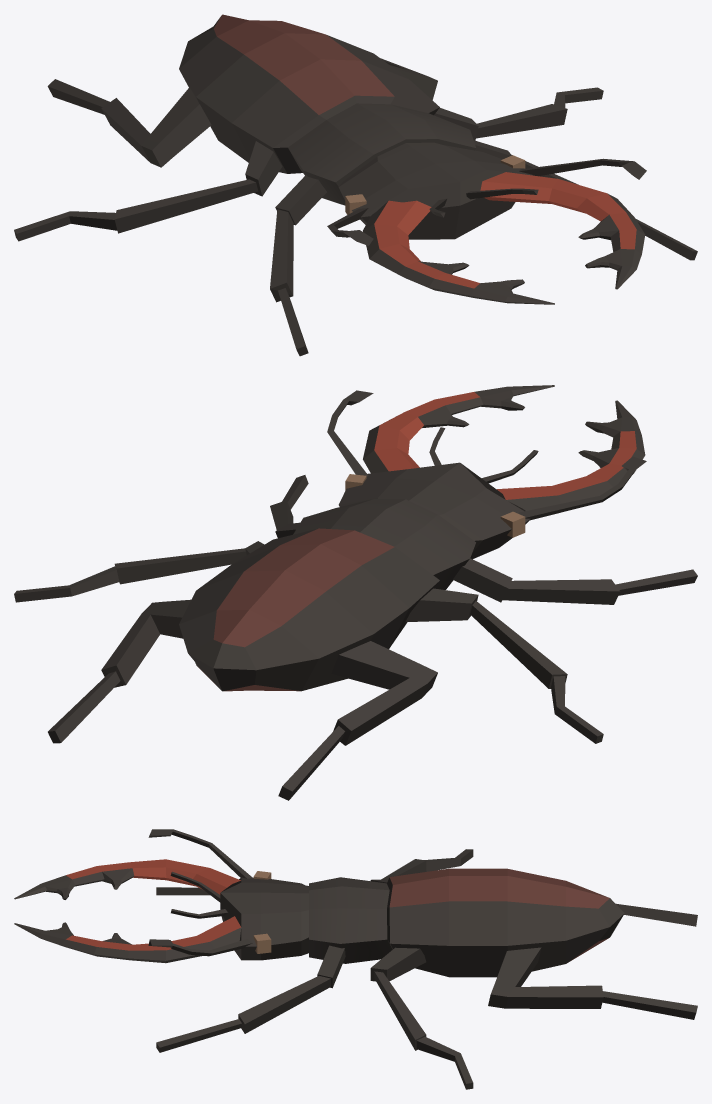
The model's file is beetle.gltf.
The picture shows the model from 3 angles, top to bottom: view 1: azimuth 30°, elevation 25°; view 2: azimuth 150°, elevation 25°; view 3: azimuth 270°, elevation 25°; orthographic projection. The views are drawn at different scales.
Visible parts, largest first — view 1: Mesh_Beetle; view 2: Mesh_Beetle; view 3: Mesh_Beetle.
Boxes of the visible parts, left/top/right/bottom form: Mesh_Beetle: left=14, top=14, right=697, bottom=356; Mesh_Beetle: left=14, top=385, right=697, bottom=800; Mesh_Beetle: left=14, top=829, right=697, bottom=1089.
Size of the model in its own units: 1.48 by 0.2878 by 1.82.
1 material, 1 textured.
